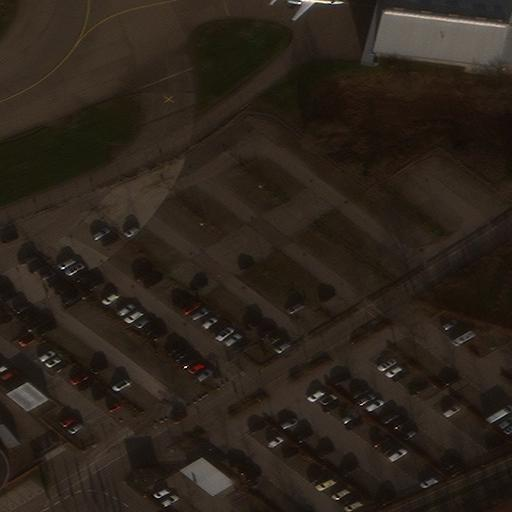Small Civil Transport: (274, 0, 349, 19)
